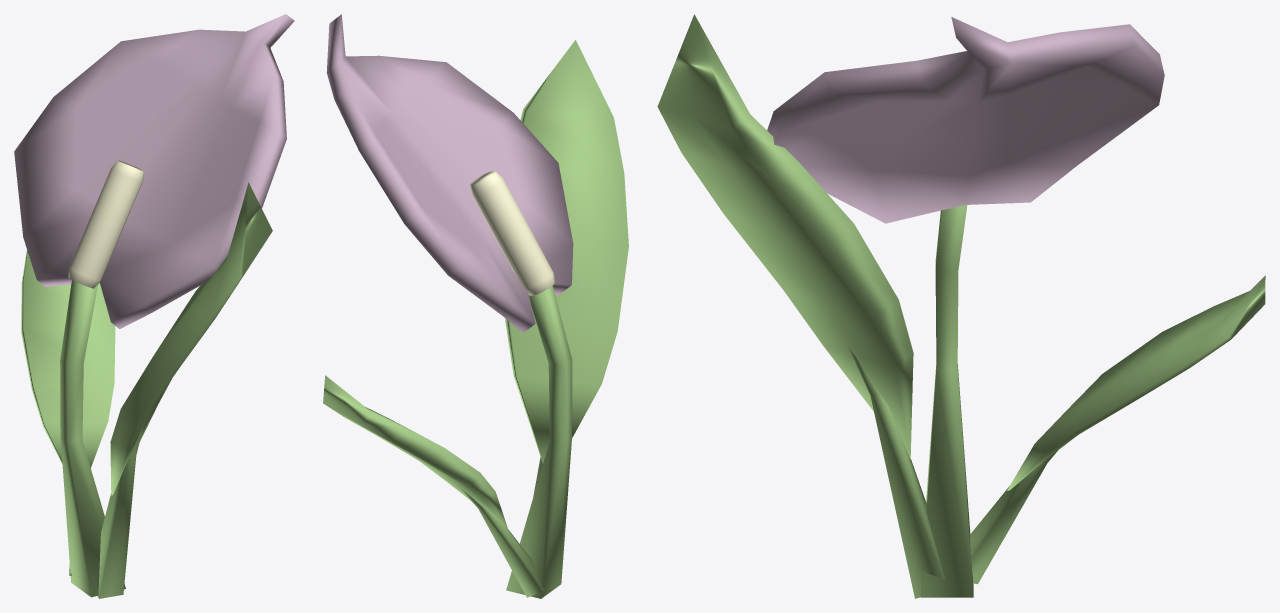
The model's file is FlowerAR4.glb.
3 renders of one model, left to right at view 1: azimuth 30°, elevation 25°; view 2: azimuth 150°, elevation 25°; view 3: azimuth 270°, elevation 25°, orthographic. The views are drawn at different scales.
Visible parts, largest first — view 1: 圆环, 立方体.003, 立方体.001, 立方体, 柱体, 立方体.002; view 2: 圆环, 立方体.001, 立方体, 立方体.003, 柱体, 立方体.004; view 3: 圆环, 立方体.001, 立方体, 立方体.003, 立方体.002, 立方体.004.
Boxes of the visible parts, box(x1,y1,x2,y2) form: 圆环: box(14, 14, 294, 328); 立方体.003: box(21, 250, 115, 467); 立方体.001: box(110, 182, 272, 495); 立方体: box(60, 280, 125, 597); 柱体: box(68, 160, 143, 288); 立方体.002: box(97, 426, 143, 598); 圆环: box(326, 14, 573, 332); 立方体.001: box(505, 40, 628, 463); 立方体: box(506, 285, 572, 598); 立方体.003: box(323, 375, 508, 530); 柱体: box(470, 171, 555, 295); 立方体.004: box(460, 488, 544, 597); 圆环: box(767, 17, 1164, 223); 立方体.001: box(657, 14, 913, 459); 立方体: box(920, 205, 973, 597); 立方体.003: box(1007, 275, 1265, 490); 立方体.002: box(848, 347, 944, 598); 立方体.004: box(970, 450, 1057, 584).
Bounding box in the file's own units: 1.8 × 3.89 × 3.08.
